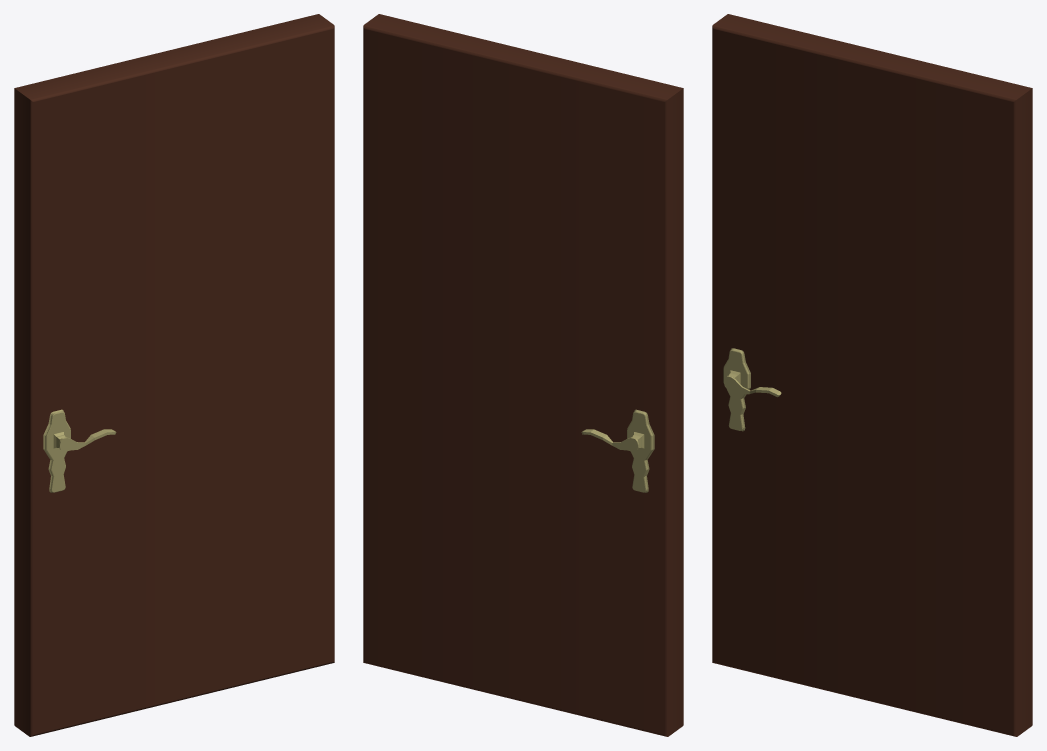
The model's file is Bedroom_Door_Rework2.fbx.
3 views of the same model, side by side, from view 1: azimuth 30°, elevation 25°; view 2: azimuth 150°, elevation 25°; view 3: azimuth 330°, elevation 25° (orthographic).
Visible parts, largest first — view 1: Bedroom_Door; view 2: Bedroom_Door; view 3: Bedroom_Door.
Part boxes in pixels (x1,y1,x2,y2): Bedroom_Door: [14, 14, 334, 736]; Bedroom_Door: [363, 14, 683, 736]; Bedroom_Door: [712, 14, 1032, 736].
Bounding box in the file's own units: 1 × 2 × 0.21.
